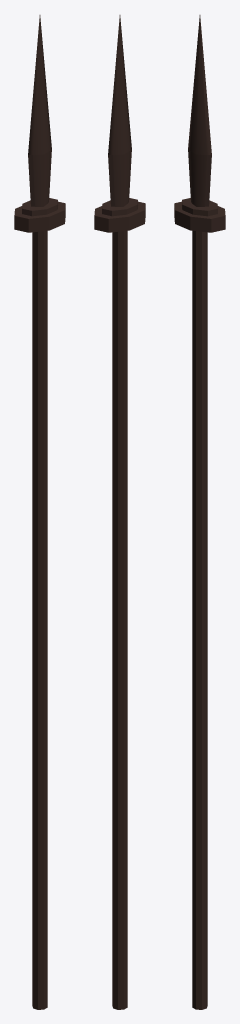
The model's file is changqiang.fbx.
The picture shows the model from 3 angles, left to right: view 1: azimuth 30°, elevation 25°; view 2: azimuth 210°, elevation 25°; view 3: azimuth 330°, elevation 25°; orthographic projection.
Parts seen in each view (by area): view 1: changqiang; view 2: changqiang; view 3: changqiang.
Boxes of the visible parts, x1,y1,x2,y2 form: changqiang: (14, 15, 65, 1009); changqiang: (94, 15, 145, 1009); changqiang: (174, 15, 225, 1009).
Size of the model in its own units: 0.5721 by 10.61 by 0.3778.
